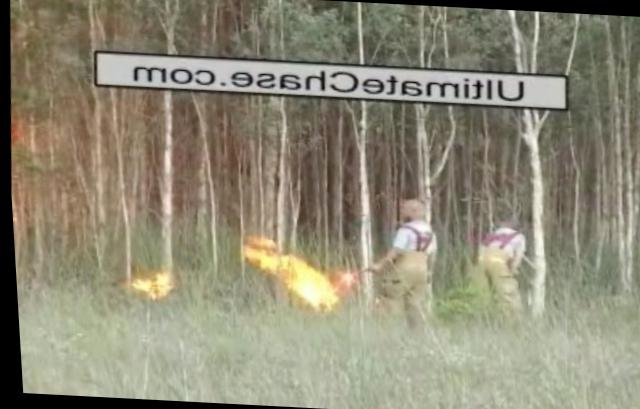fire: (229, 195, 365, 327), (113, 244, 186, 304)
